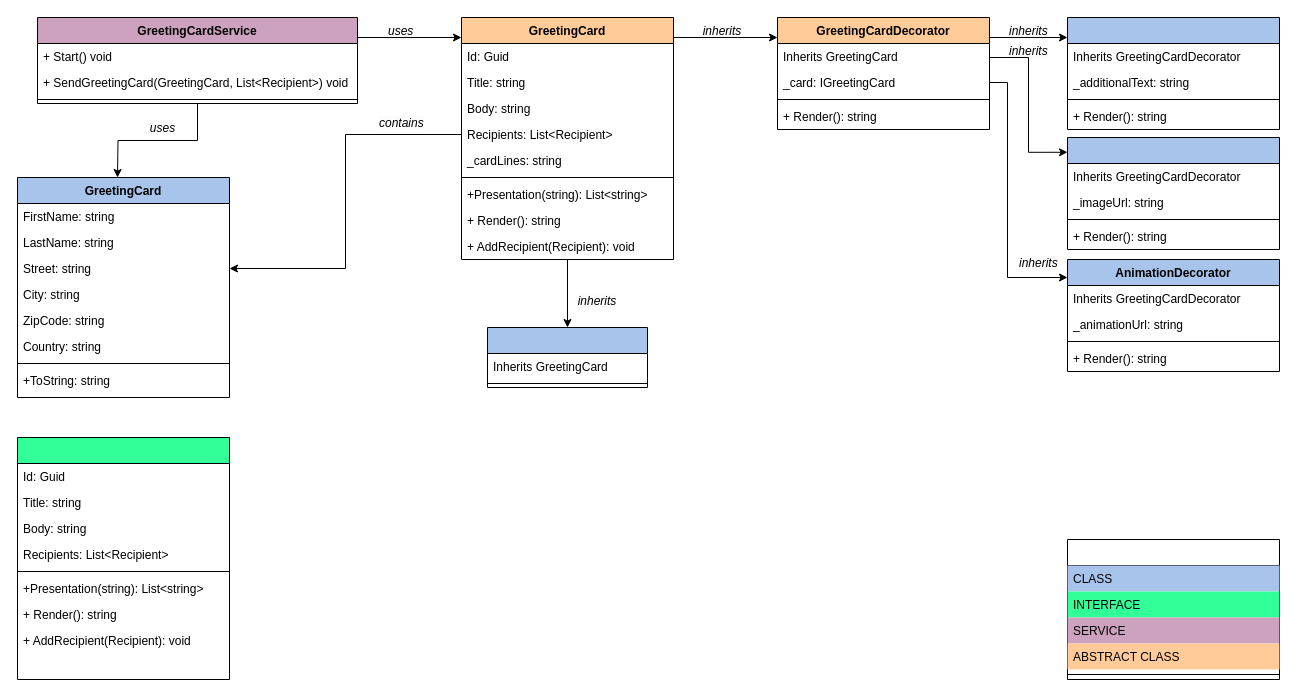
Some shapes in this 1297 by 697 pixel diagram are drawn without their labels. Each missing label, with the box of its shape:
BasicGreetingCard: (486, 326, 648, 388)
IGreetingCard: (16, 436, 230, 680)
ImagetDecorator: (1066, 136, 1280, 250)
LEGEND: (1066, 538, 1280, 680)
TextDecorator: (1066, 16, 1280, 130)
